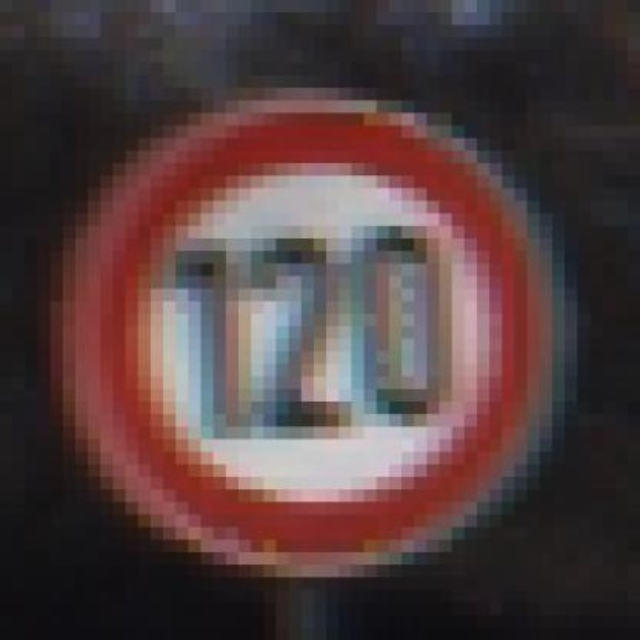Tốc độ tối đa cho phép 120km/h: (76, 101, 541, 563)
